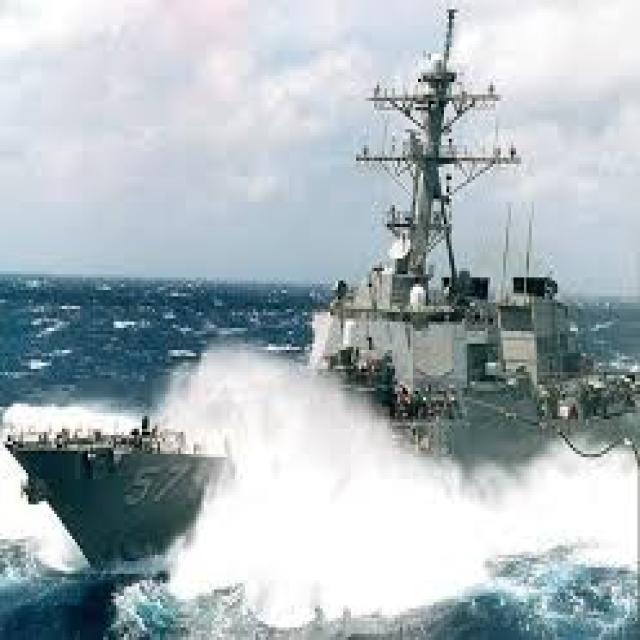navalvessels: (9, 28, 640, 546)
